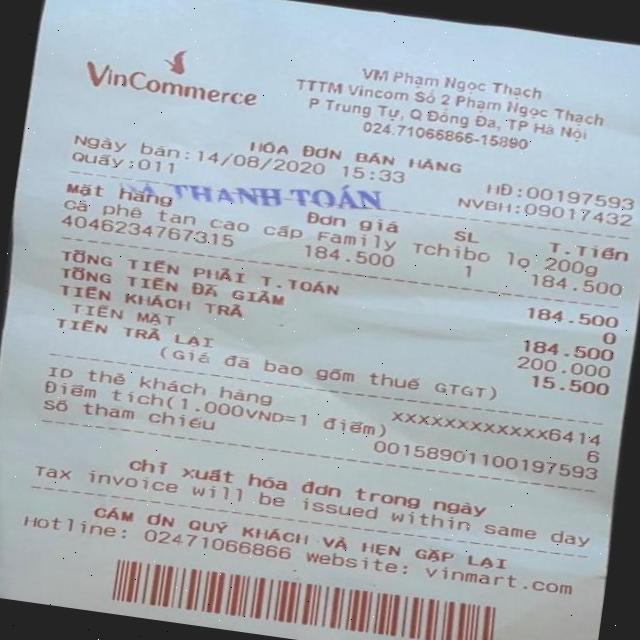Date: (196, 144, 329, 180)
Store_Name: (84, 57, 262, 115)
amount_number: (524, 303, 623, 334)
label_total: (61, 244, 348, 302)
